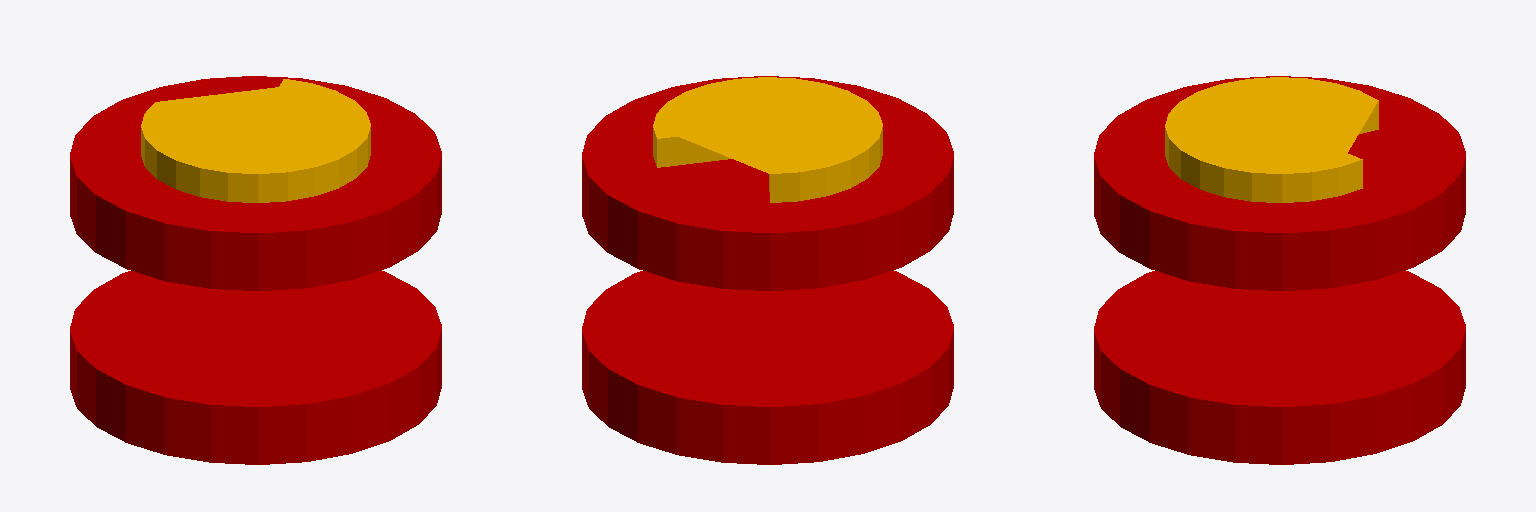
File: carro_rodas_frente_2.obj
3 renders of one model, left to right at view 1: azimuth 30°, elevation 25°; view 2: azimuth 150°, elevation 25°; view 3: azimuth 270°, elevation 25°, orthographic.
Visible parts, largest first — view 1: roda_frente_Mesh25_Group25_Model; view 2: roda_frente_Mesh25_Group25_Model; view 3: roda_frente_Mesh25_Group25_Model.
Boxes of the visible parts, box(x1,y1,x2,y2) form: roda_frente_Mesh25_Group25_Model: box(70, 76, 441, 464); roda_frente_Mesh25_Group25_Model: box(582, 76, 953, 464); roda_frente_Mesh25_Group25_Model: box(1094, 76, 1465, 464).
Bounding box in the file's own units: 58.33 × 45 × 58.33.